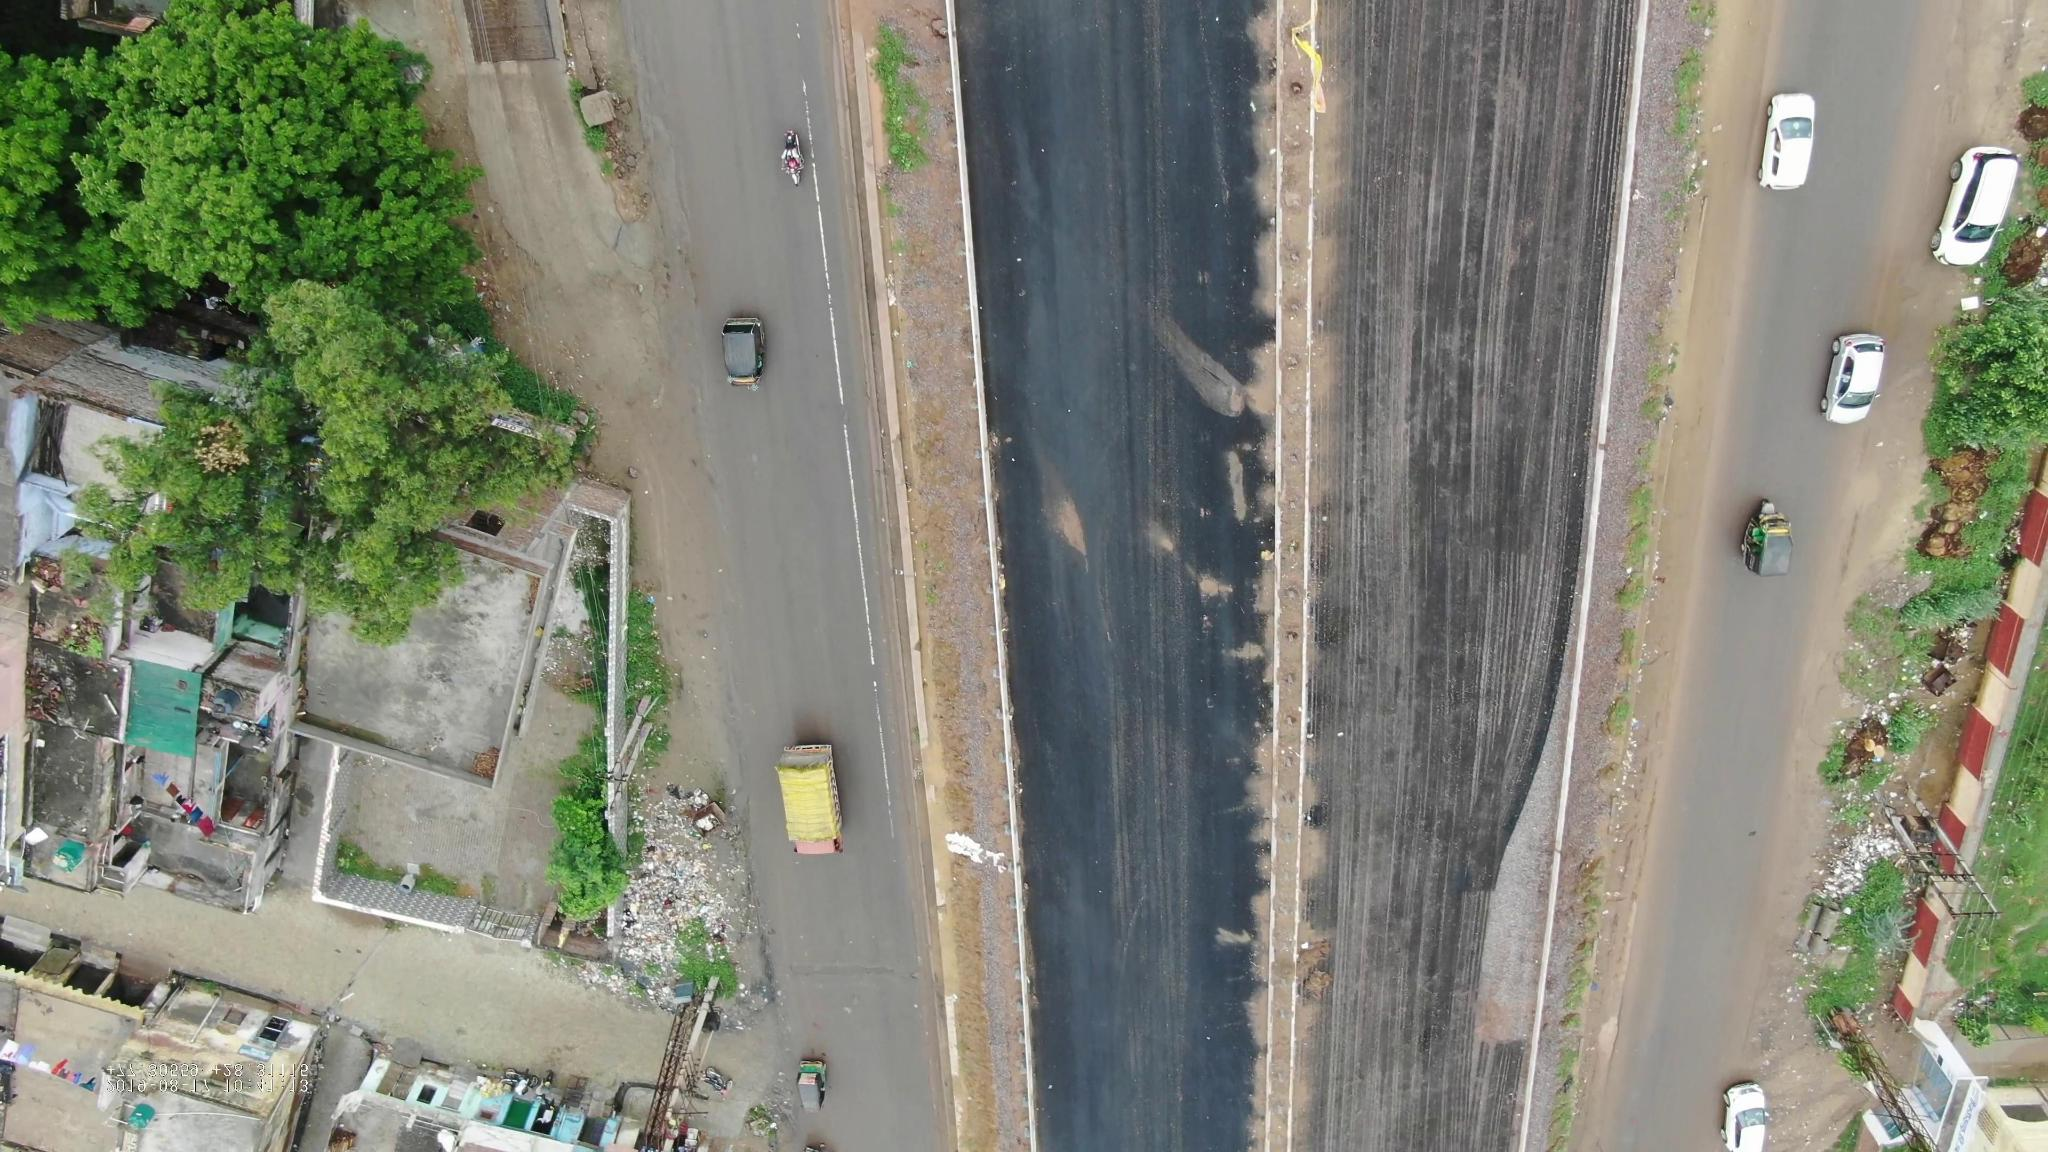Muddy_road: (1641, 260, 1733, 585)
